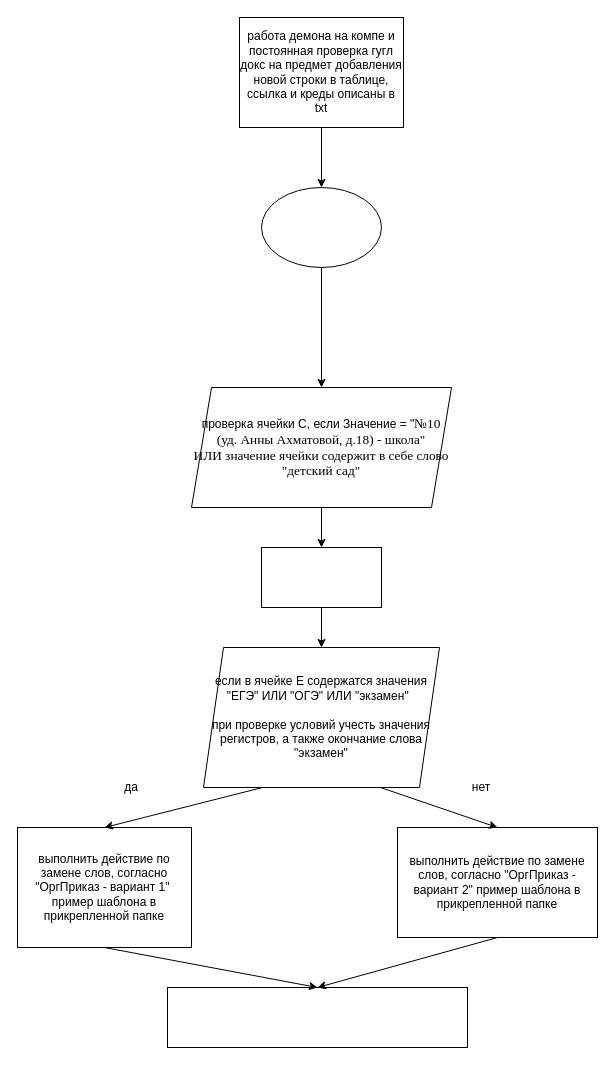
This 615x1065 diagram has some shape labels left out. The shapes that lost their labels are listed below. From the top down, each one's centre as x and y in pixels, then its label:
At [321,227]: "добавление строки".
At [321,577]: "запуск программы по формированию док-та".
At [317,1017]: "пересылка контакту в телеграм получившегося документа".
